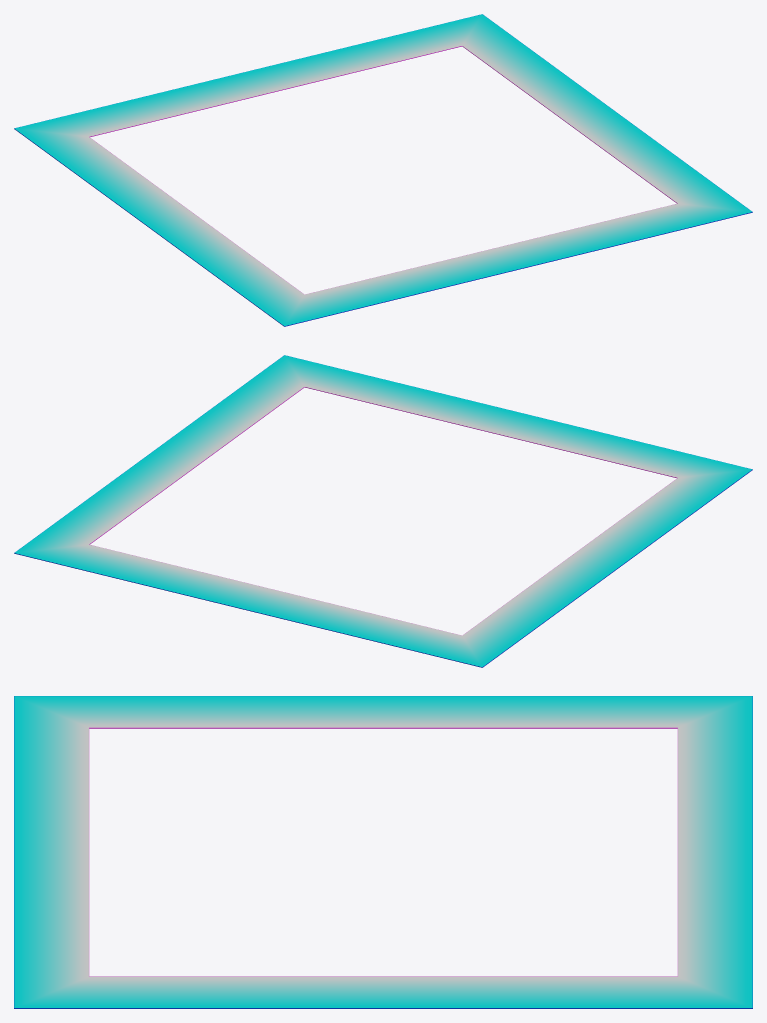
The picture shows the model from 3 angles, top to bottom: view 1: azimuth 30°, elevation 25°; view 2: azimuth 150°, elevation 25°; view 3: azimuth 270°, elevation 25°; orthographic projection. The views are drawn at different scales.
Visible parts, largest first — view 1: geo1; view 2: geo1; view 3: geo1.
Boxes of the visible parts, box(x1,y1,x2,y2) form: geo1: box(14, 14, 752, 326); geo1: box(14, 355, 752, 667); geo1: box(14, 696, 752, 1008).
Bounding box in the file's own units: 1 × 0.001 × 1.
